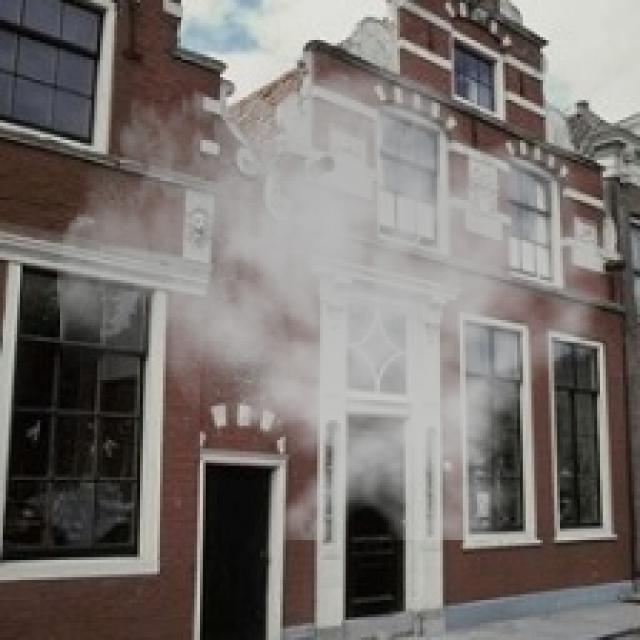smoke: (54, 20, 623, 540)
